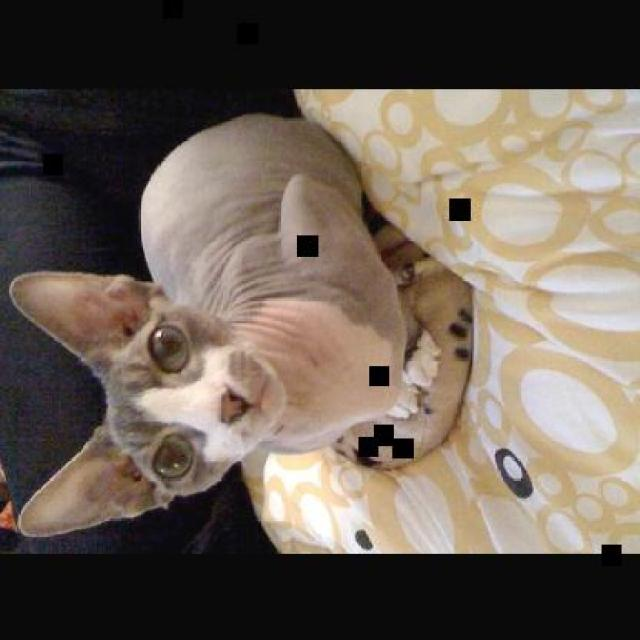unauthorized: (6, 111, 472, 538)
